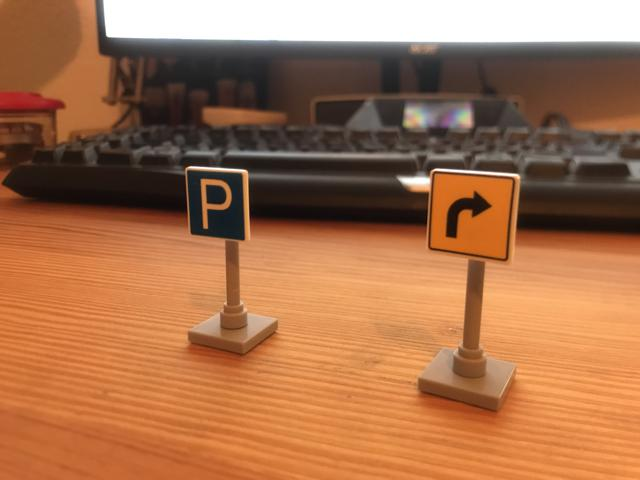fahrtrichtung rechts: (427, 166, 520, 265)
parken: (184, 165, 253, 245)
